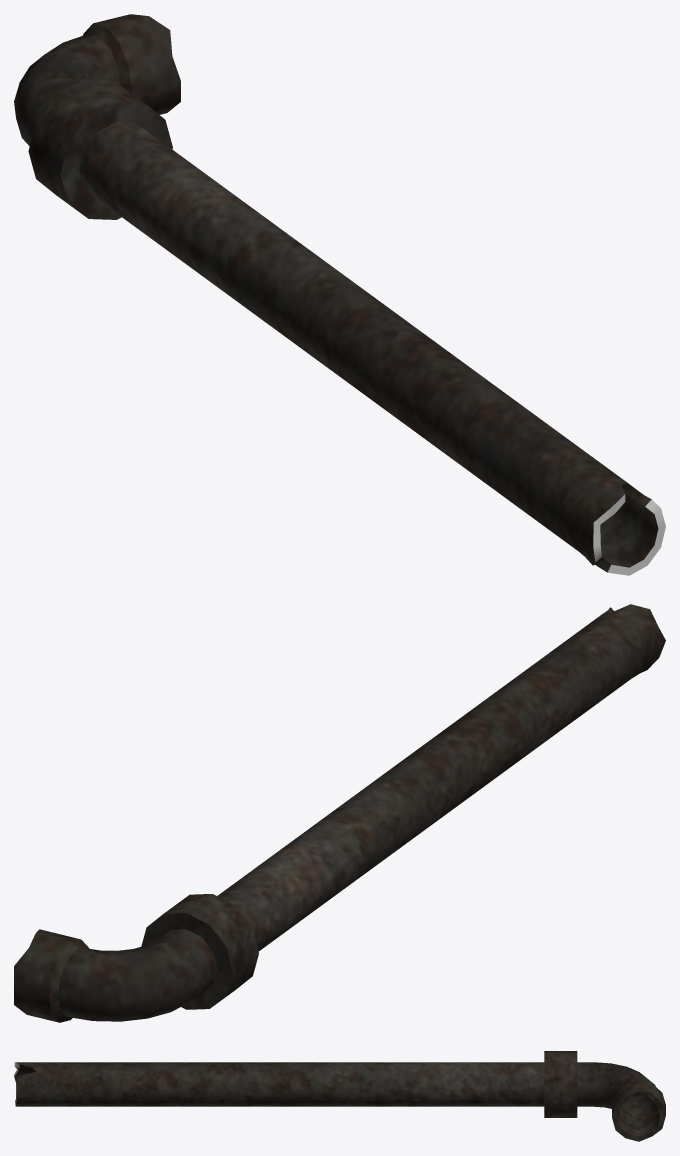
Rendered from pipe_melee_mx_1.obj.
3 views of the same model, one above another, from view 1: azimuth 30°, elevation 25°; view 2: azimuth 150°, elevation 25°; view 3: azimuth 270°, elevation 25° (orthographic). The views are drawn at different scales.
Visible parts, largest first — view 1: pipe_melee_mx_1; view 2: pipe_melee_mx_1; view 3: pipe_melee_mx_1.
Boxes of the visible parts, bbox=[...] form: pipe_melee_mx_1: bbox=[14, 14, 665, 575]; pipe_melee_mx_1: bbox=[14, 604, 665, 1022]; pipe_melee_mx_1: bbox=[14, 1051, 665, 1141].
Bounding box in the file's own units: 0.1265 × 0.075 × 0.7293.
